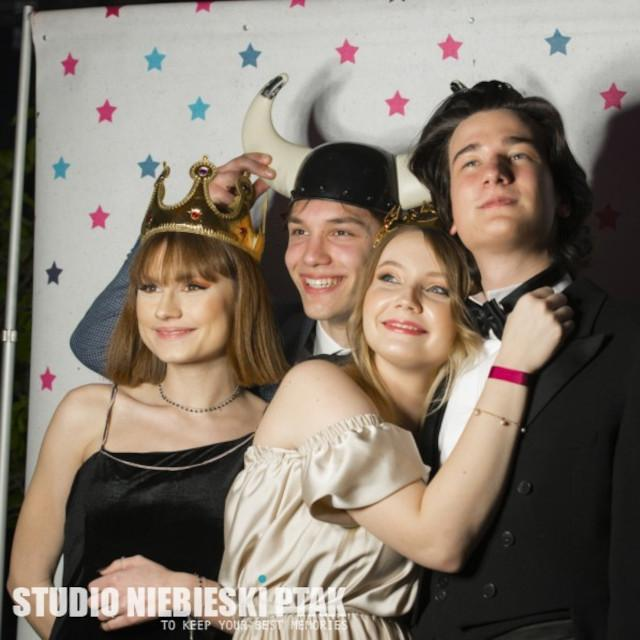kobieta: (10, 220, 270, 640), (221, 219, 468, 640)
mezczyzna: (421, 74, 640, 640), (273, 134, 395, 352)
